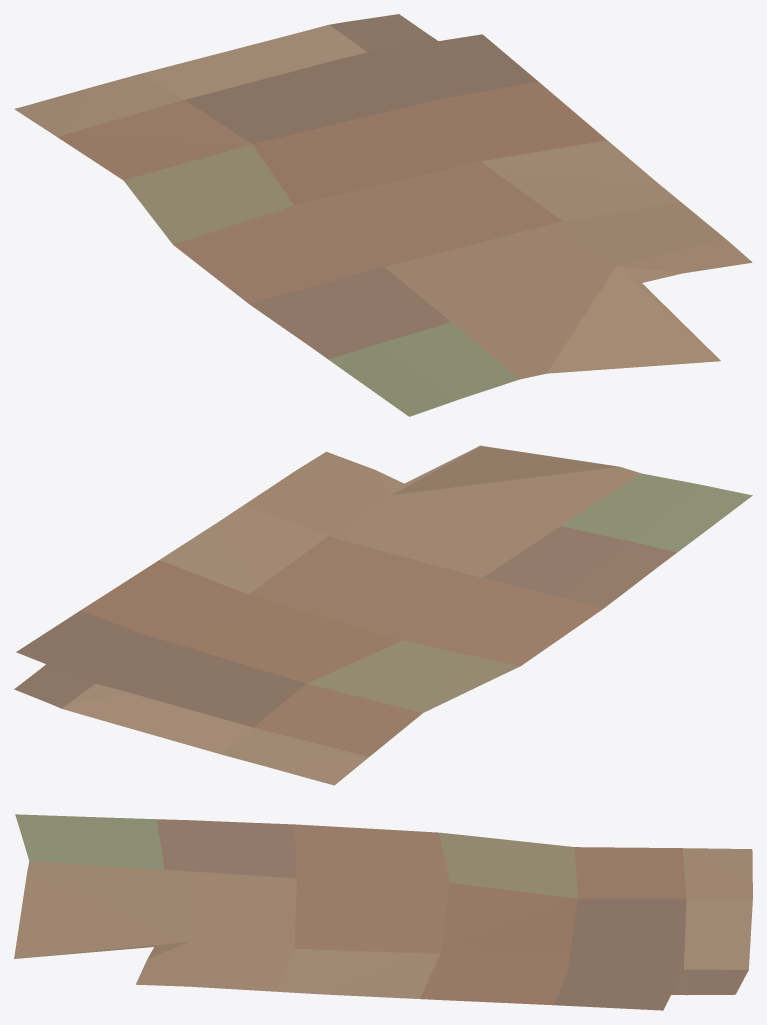
The model's file is farm_17_30_soil.glb.
3 renders of one model, top to bottom at view 1: azimuth 30°, elevation 25°; view 2: azimuth 150°, elevation 25°; view 3: azimuth 270°, elevation 25°, orthographic. The views are drawn at different scales.
Visible parts, largest first — view 1: geometry_0; view 2: geometry_0; view 3: geometry_0.
Boxes of the visible parts, x1,y1,x2,y2 form: geometry_0: (14,14,752,416); geometry_0: (14,445,752,785); geometry_0: (14,814,752,1010).
Size of the model in its own units: 143 by 7.19 by 237.
